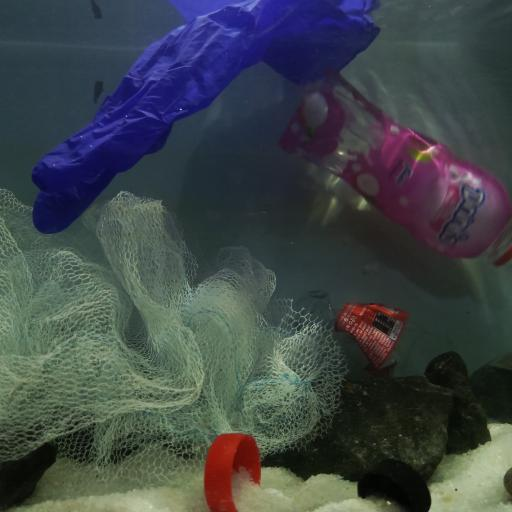bottle_cap: (204, 431, 263, 512), (356, 458, 431, 512)
glove: (31, 0, 383, 234)
net: (0, 187, 351, 478)
plastic_bottle: (267, 68, 512, 270), (292, 286, 437, 373)
